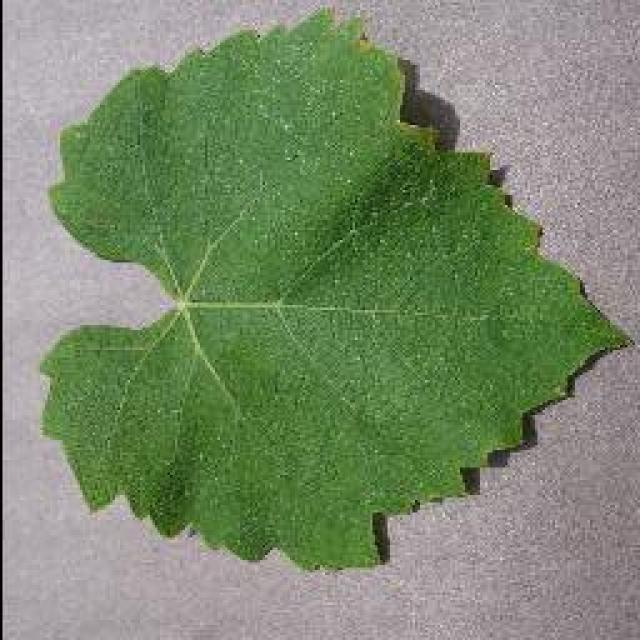Grape___healthy: (42, 10, 625, 565)
